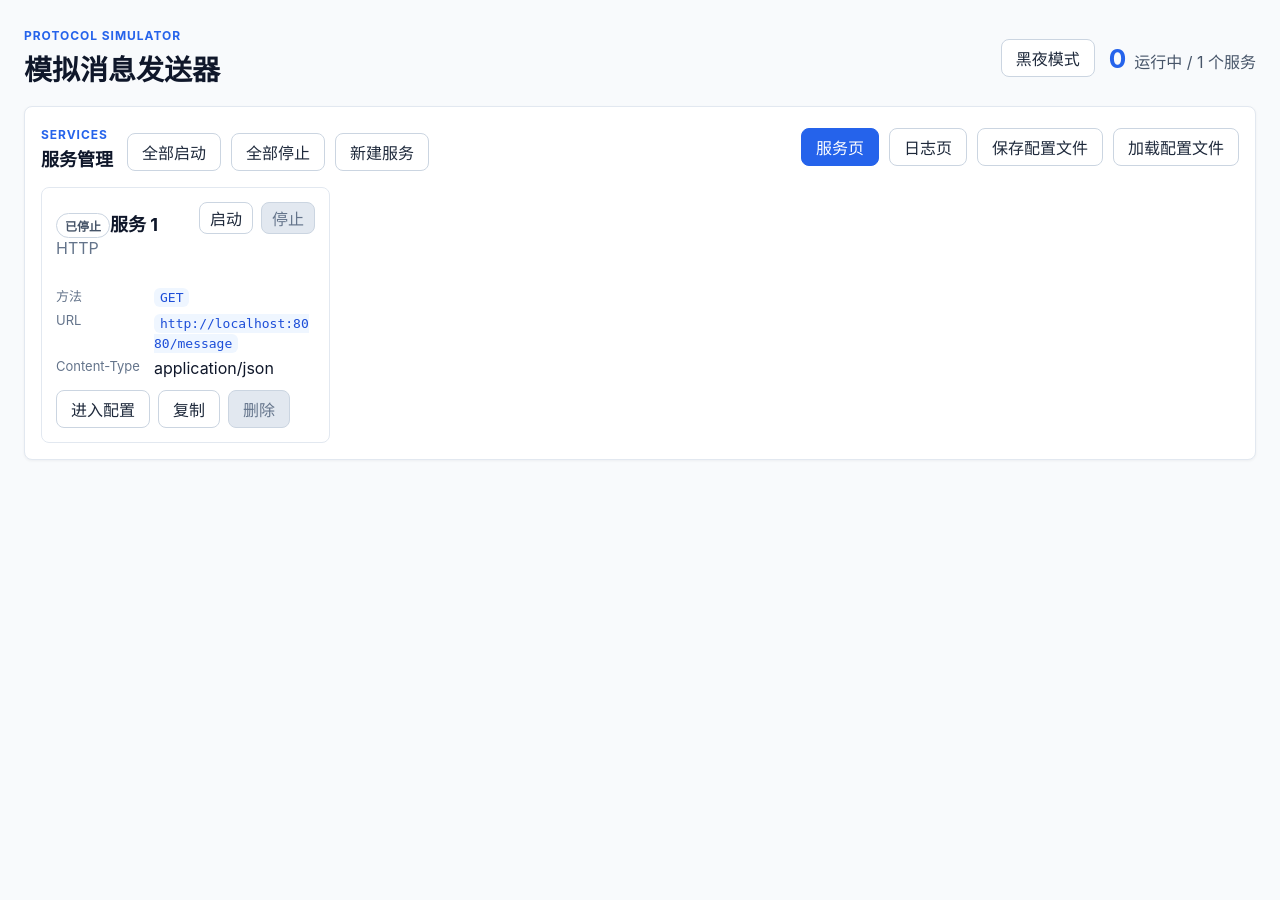
Test: dynamic forms › shows MQTT fields after protocol switch
Click the button "进入配置": coordinates (103, 409) [56,390,150,428]
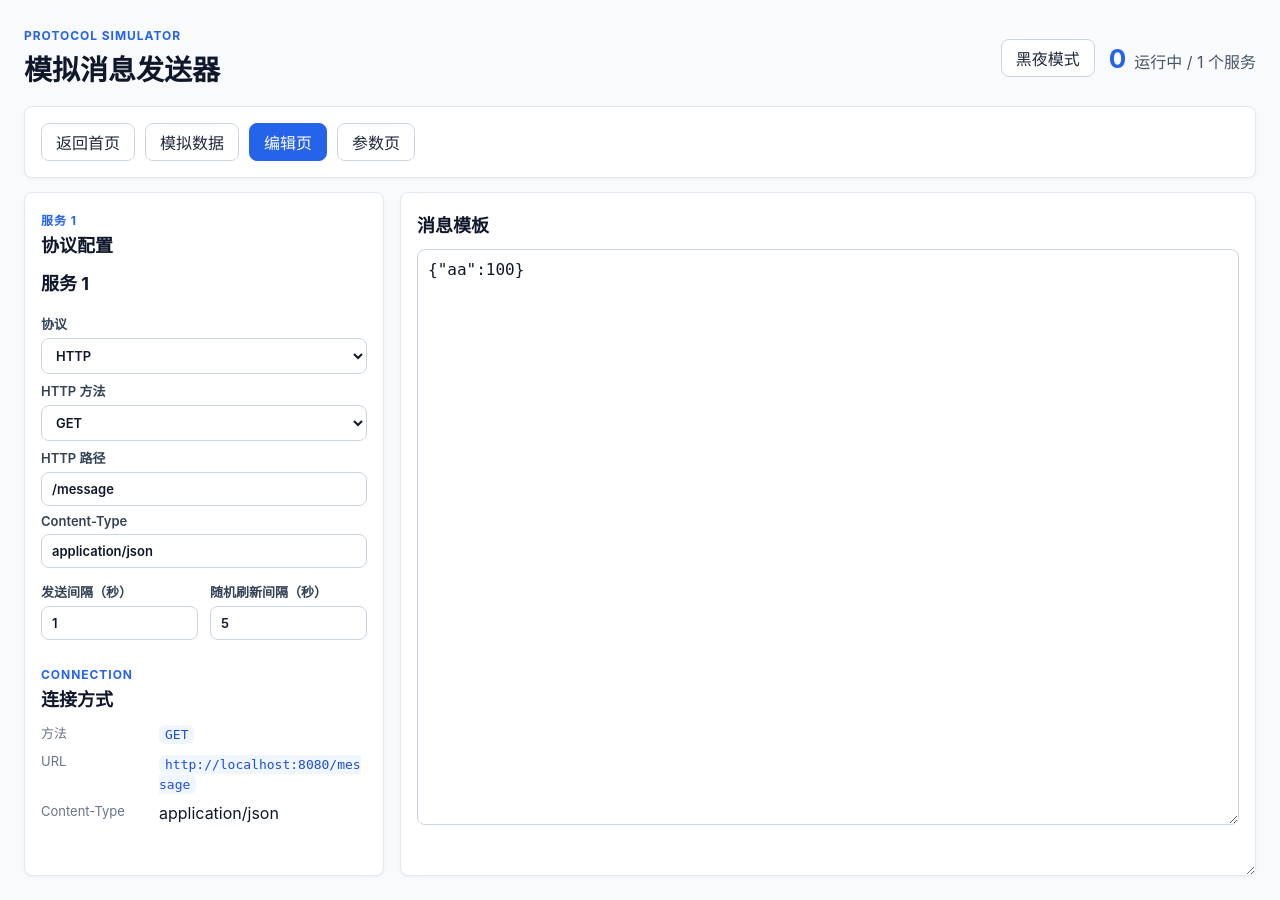
Select "MQTT" in the dropdown labelled "协议": coordinates (204, 356) [41,338,367,374]
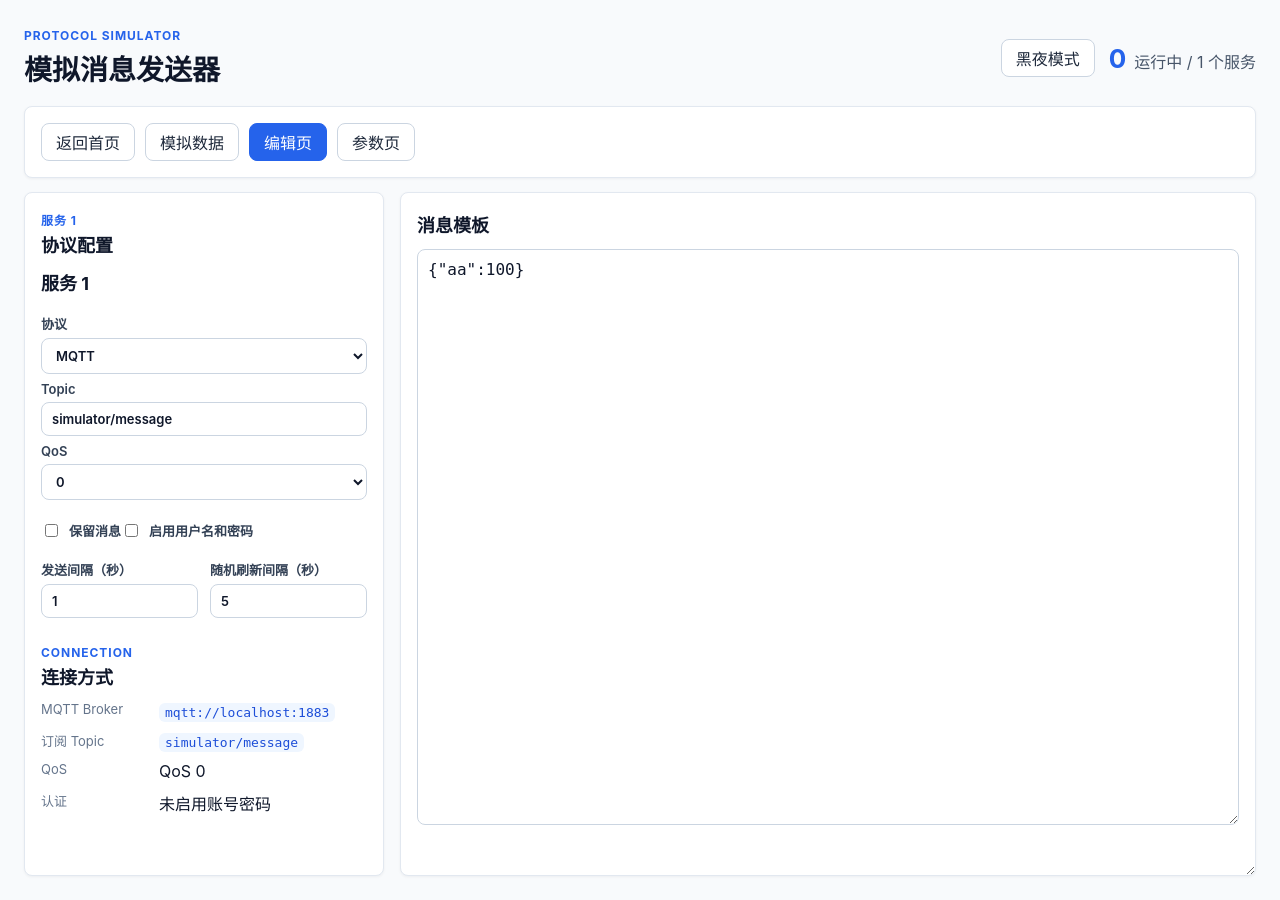
Now the field labelled "Topic" is shown, box [41,402,367,436]
Now the dropdown labelled "QoS" is shown, box [41,464,367,500]
Now the checkbox labelled "保留消息" is shown, box [45,524,58,536]
Click the checkbox labelled "启用用户名和密码": coordinates (132, 530) [125,524,138,536]
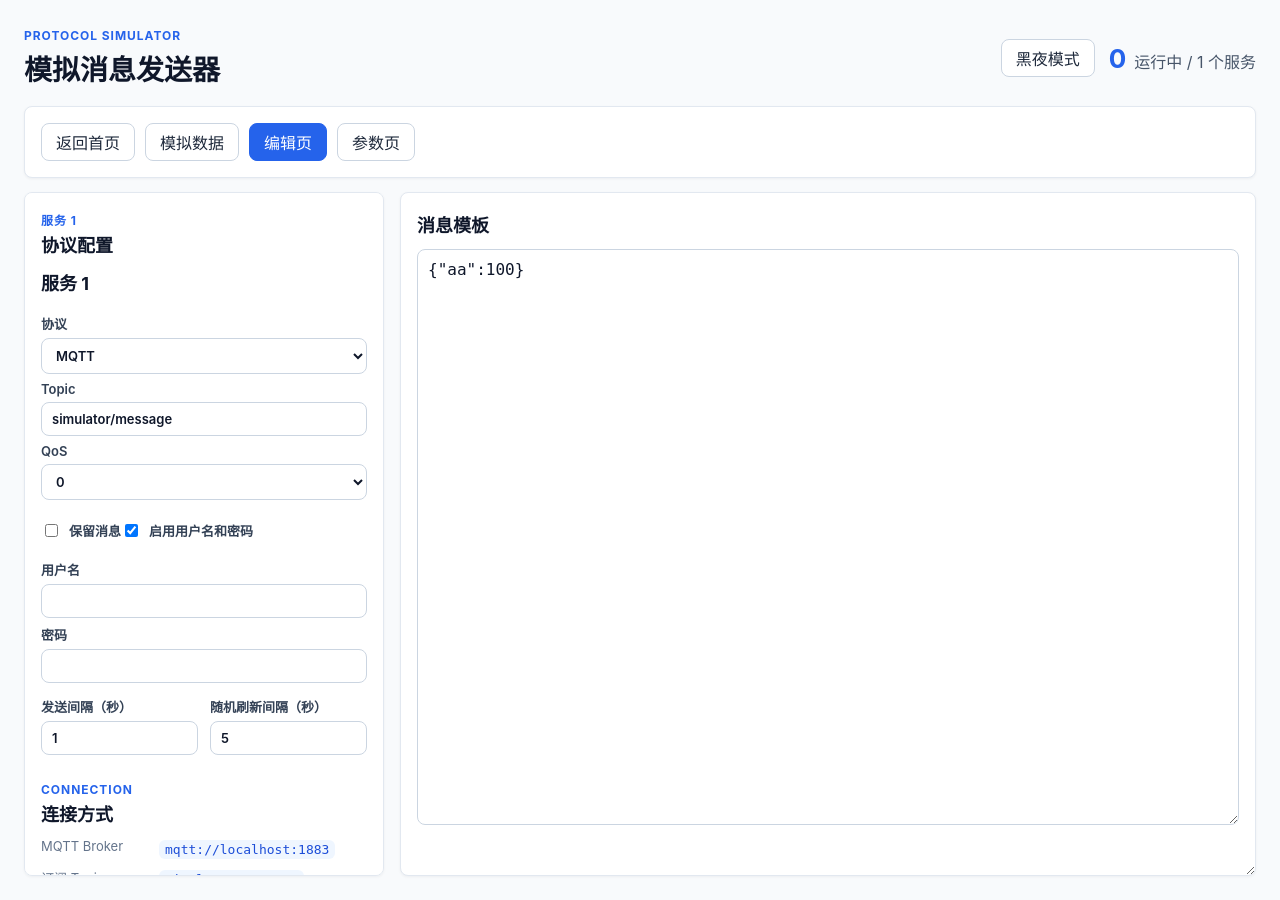
Now the field labelled "用户名" is shown, box [41,584,367,618]
Now the password field labelled "密码" is shown, box [41,649,367,683]
